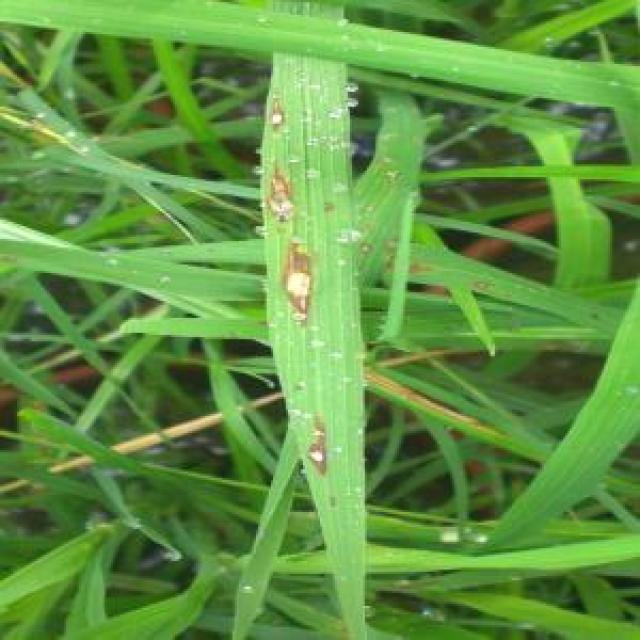Leaf_Blast: (260, 156, 324, 232), (275, 228, 324, 314), (294, 414, 348, 491), (254, 81, 309, 149)
